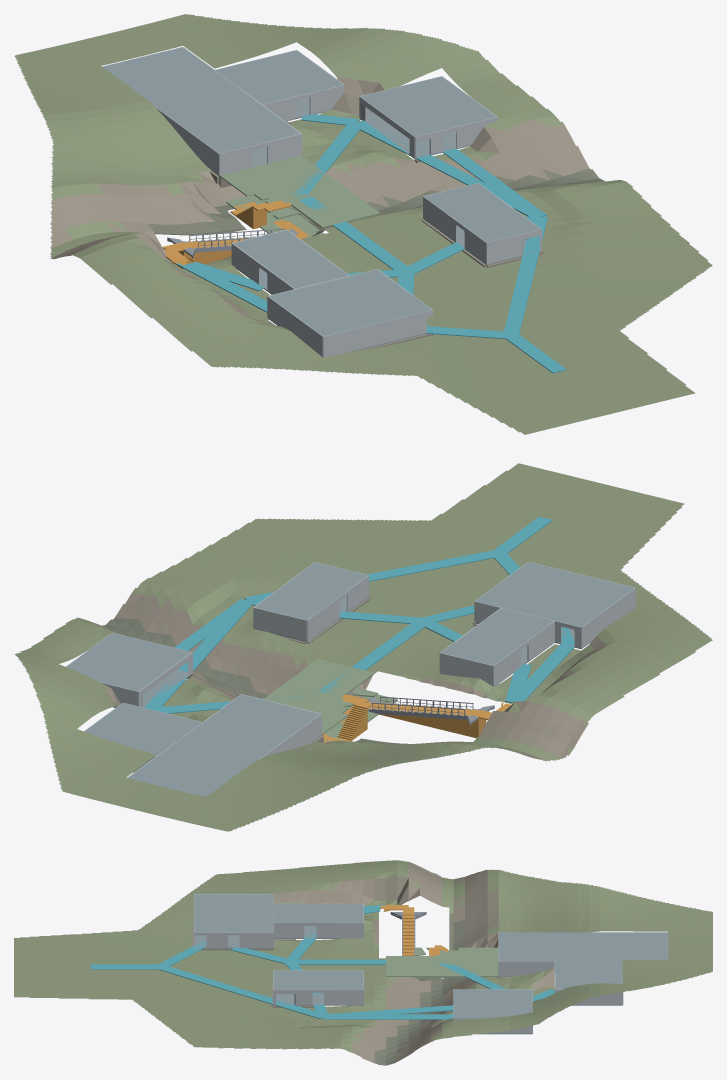
The model's file is finished-ends.glb.
3 views of the same model, one above another, from view 1: azimuth 30°, elevation 25°; view 2: azimuth 150°, elevation 25°; view 3: azimuth 270°, elevation 25° (orthographic). The views are drawn at different scales.
Parts seen in each view (by area): view 1: Saved editor stair bench terrain WLD-12, Ceiling cap tunnel, Ceiling cap signal, Ceiling cap store, Ceiling cap refuge, Ceiling cap coach-b, Ceiling cap coach-a, Flat route shell Wall signal S, L04 support 0, Floor trestle.008, L14 support 0, Floor trestle.005 (+15 smaller); view 2: Saved editor stair bench terrain WLD-12, Ceiling cap tunnel, Ceiling cap signal, Ceiling cap store, Ceiling cap refuge, Ceiling cap coach-b, Ceiling cap coach-a, Floor trestle.008, L14 support 0, L04 support 0, Wall coach-b N, Wall signal W (+10 smaller); view 3: Saved editor stair bench terrain WLD-12, Ceiling cap tunnel, Ceiling cap signal, Ceiling cap store, Ceiling cap coach-b, Ceiling cap coach-a, Ceiling cap refuge, L04 support 0, Floor trestle.008, Flat route shell Wall coach-a E, L15 support 0, Flat route shell Wall tunnel E.001 (+15 smaller).
Part boxes in pixels (<box>): Saved editor stair bench terrain WLD-12: <box>14,14,712,434</box>; Ceiling cap tunnel: <box>102,47,299,153</box>; Ceiling cap signal: <box>269,269,432,336</box>; Ceiling cap store: <box>360,76,496,136</box>; Ceiling cap refuge: <box>215,50,342,104</box>; Ceiling cap coach-b: <box>424,183,540,242</box>; Ceiling cap coach-a: <box>233,230,349,288</box>; Flat route shell Wall signal S: <box>323,310,432,357</box>; L04 support 0: <box>503,216,547,335</box>; Floor trestle.008: <box>293,188,380,226</box>; L14 support 0: <box>354,120,545,218</box>; Floor trestle.005: <box>248,155,324,185</box>; Saved editor stair bench terrain WLD-12: <box>14,463,712,831</box>; Ceiling cap tunnel: <box>128,694,320,796</box>; Ceiling cap signal: <box>475,562,634,627</box>; Ceiling cap store: <box>66,633,191,691</box>; Ceiling cap refuge: <box>84,703,202,755</box>; Ceiling cap coach-b: <box>255,562,367,619</box>; Ceiling cap coach-a: <box>440,608,553,665</box>; Floor trestle.008: <box>285,659,369,695</box>; L14 support 0: <box>144,599,253,710</box>; L04 support 0: <box>244,550,501,602</box>; Wall coach-b N: <box>253,607,306,641</box>; Wall signal W: <box>581,588,635,648</box>; Saved editor stair bench terrain WLD-12: <box>14,860,712,1065</box>; Ceiling cap tunnel: <box>498,932,667,960</box>; Ceiling cap signal: <box>194,894,273,932</box>; Ceiling cap store: <box>453,989,532,1018</box>; Ceiling cap coach-b: <box>273,970,363,989</box>; Ceiling cap coach-a: <box>273,903,363,922</box>; Ceiling cap refuge: <box>555,961,622,989</box>; L04 support 0: <box>157,965,325,1019</box>; Floor trestle.008: <box>386,957,434,976</box>; Flat route shell Wall coach-a E: <box>316,922,363,938</box>; L15 support 0: <box>324,1014,453,1019</box>; Flat route shell Wall tunnel E.001: <box>498,961,554,976</box>.
Bounding box in the file's own units: 75 × 10.11 × 124.
Materials: 31 (14 with a texture image).
